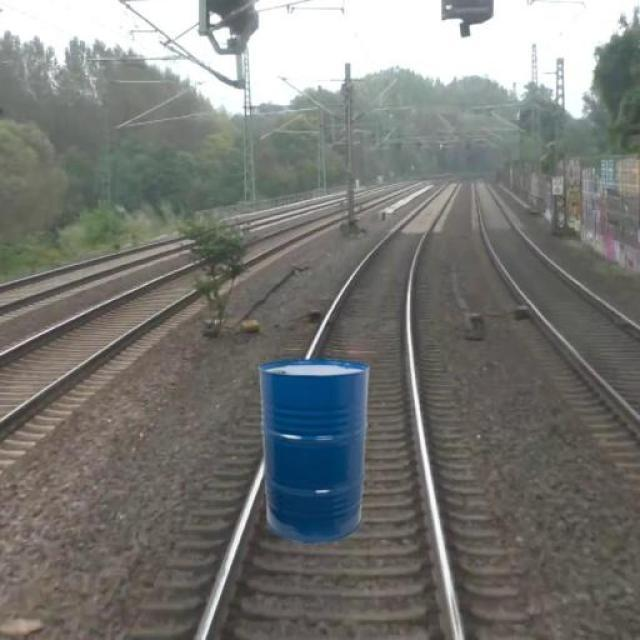Other_objects: (251, 352, 376, 550)
